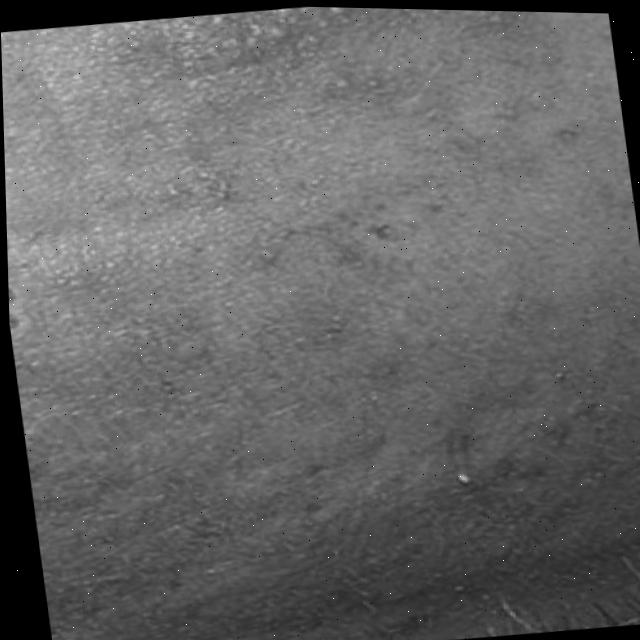Rosacea: (43, 1, 564, 379)
